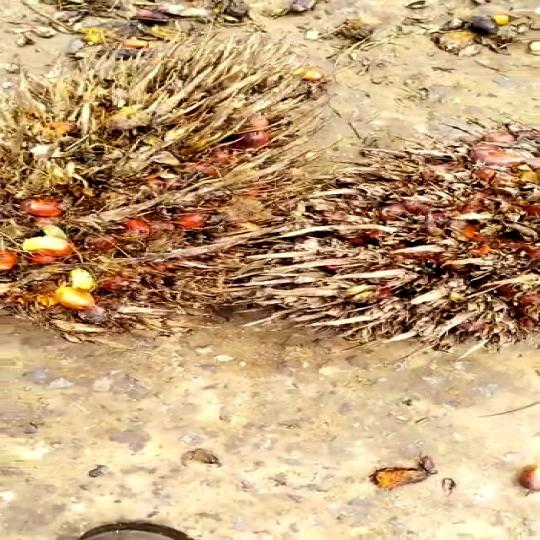terlalu masak: (0, 64, 328, 336)
